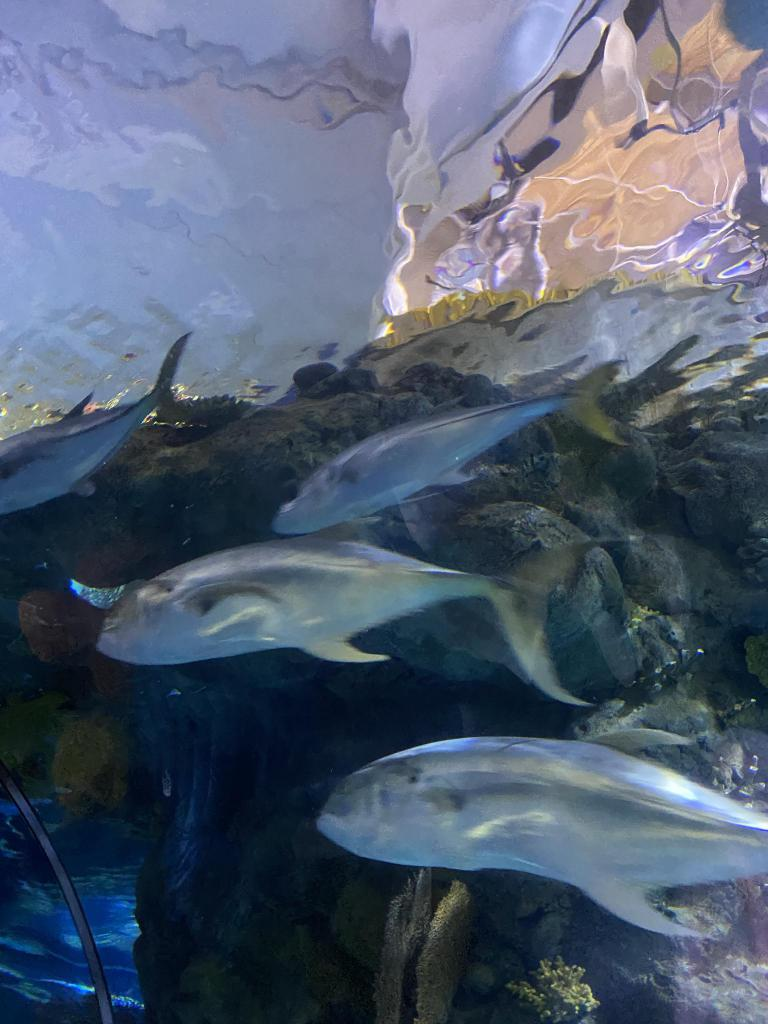fish: (100, 520, 614, 718), (327, 718, 767, 948), (272, 384, 606, 530), (0, 350, 206, 516)
